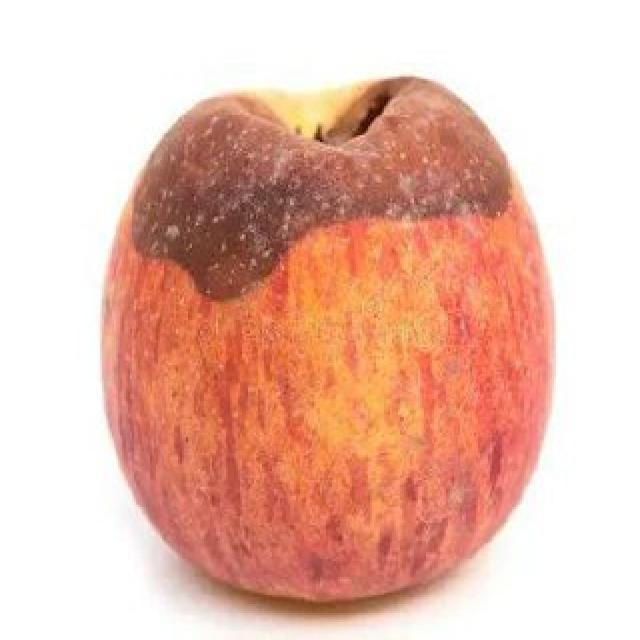Rotten: (104, 85, 524, 610)
